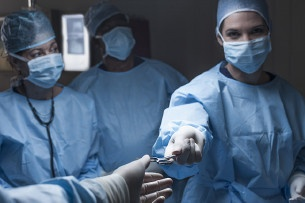Mask: (222, 22, 272, 72)
